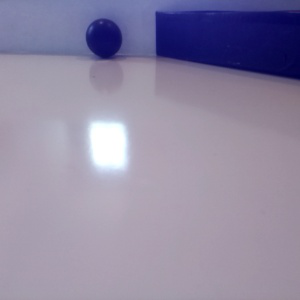zone: (156, 10, 300, 81)
